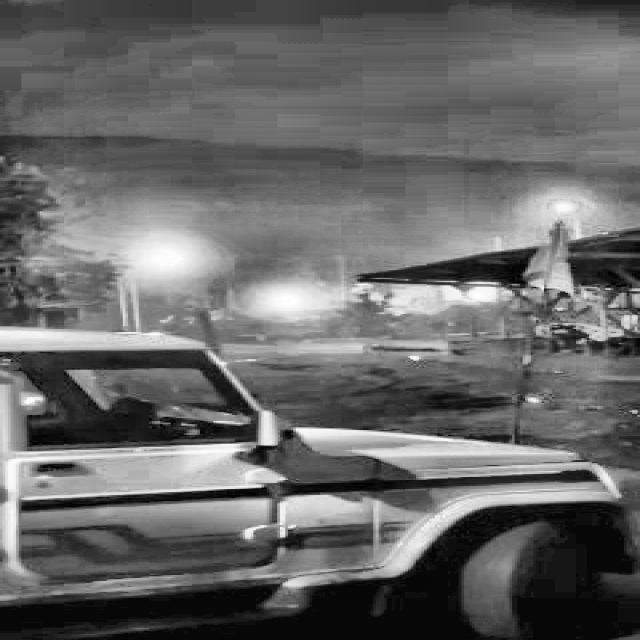light_vehicle: (0, 323, 640, 640)
